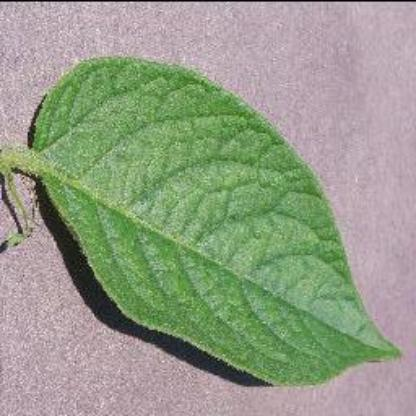Healthy-plant: (2, 48, 404, 390)
